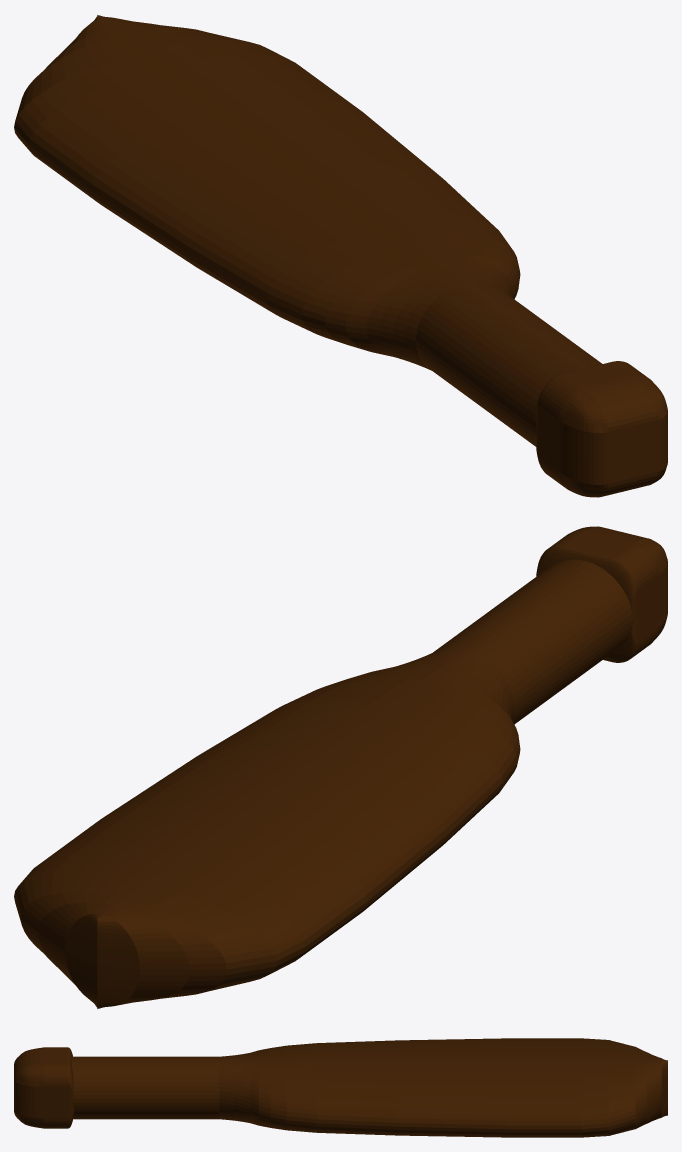
Rendered from Patu.fbx.
The picture shows the model from 3 angles, top to bottom: view 1: azimuth 30°, elevation 25°; view 2: azimuth 150°, elevation 25°; view 3: azimuth 270°, elevation 25°; orthographic projection. The views are drawn at different scales.
Visible parts, largest first — view 1: PatuBasalt; view 2: PatuBasalt; view 3: PatuBasalt.
Boxes of the visible parts, x1,y1,x2,y2 form: PatuBasalt: (14, 15, 667, 497); PatuBasalt: (14, 526, 667, 1008); PatuBasalt: (14, 1038, 667, 1137).
Size of the model in its own units: 15.97 by 5.71 by 53.51.
